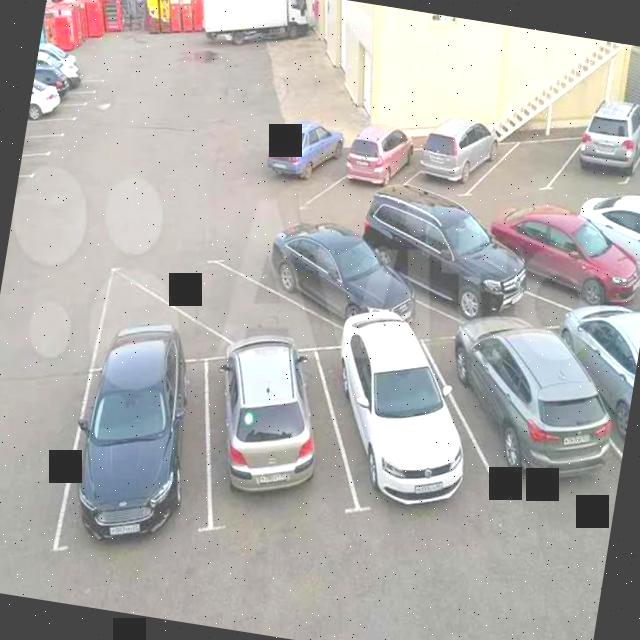car: (412, 304, 630, 519), (296, 316, 504, 541), (39, 342, 233, 575), (186, 323, 372, 534), (235, 205, 442, 358), (357, 194, 556, 342), (480, 206, 640, 333), (555, 316, 640, 471), (244, 111, 358, 216), (316, 125, 430, 217), (394, 123, 512, 210), (551, 109, 640, 204), (580, 194, 640, 301), (32, 66, 108, 105), (29, 82, 98, 122), (28, 95, 85, 129), (24, 110, 76, 146), (21, 128, 64, 170), (18, 148, 48, 185), (13, 169, 34, 212)
free: (111, 223, 322, 373), (476, 120, 582, 202)
